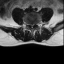CCS_normal: (31, 21, 33, 29)
LFS_severe_stenosis: (34, 21, 36, 27)
LLS_severe_stenosis: (33, 21, 34, 27)
RFS_stenosis: (28, 21, 29, 26)
RLS_stenosis: (29, 21, 31, 26)
